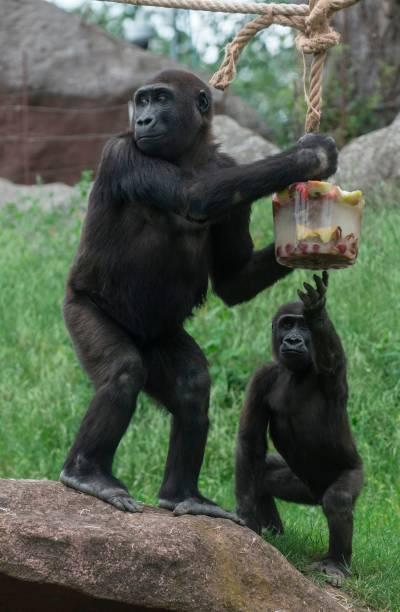gorille_Autres: (72, 50, 238, 523), (224, 290, 397, 548)
